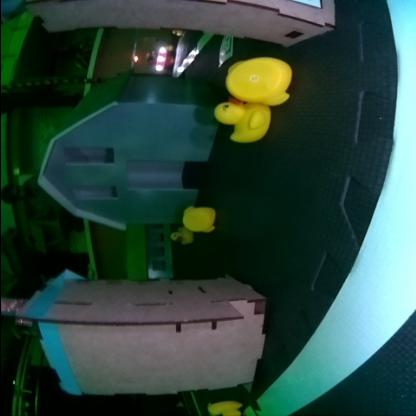Duckie: (226, 58, 288, 104), (214, 98, 268, 143), (180, 206, 214, 230), (206, 400, 240, 415), (170, 230, 192, 244)
Duckiebot: (144, 47, 172, 71)
